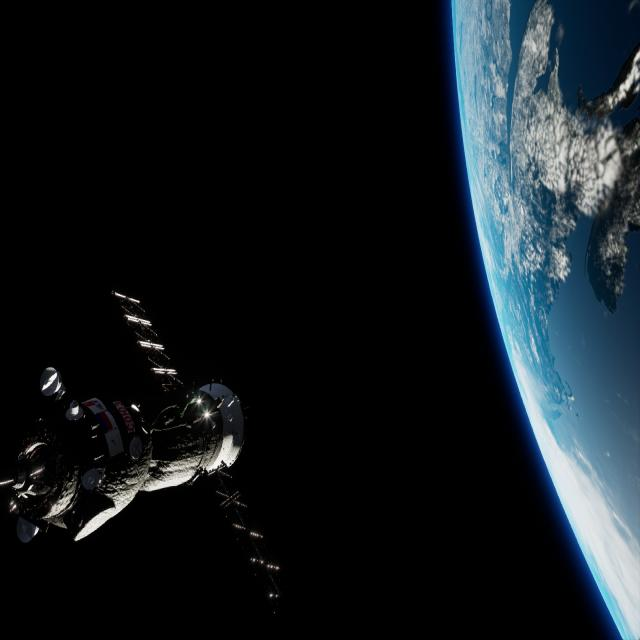Satellites revolving around earth: (449, 1, 639, 638)
